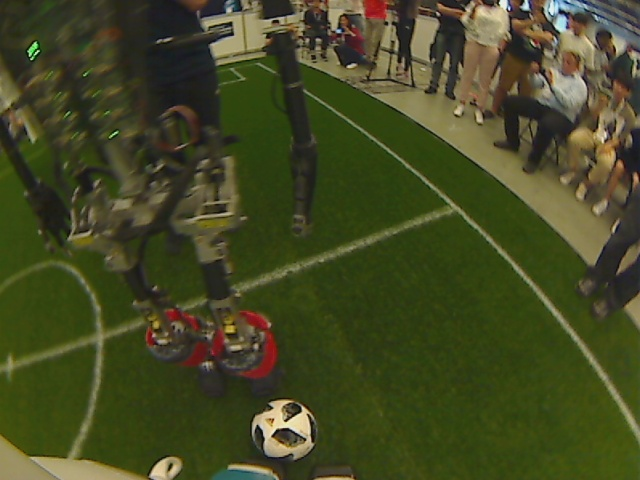ball: (248, 396, 320, 462)
